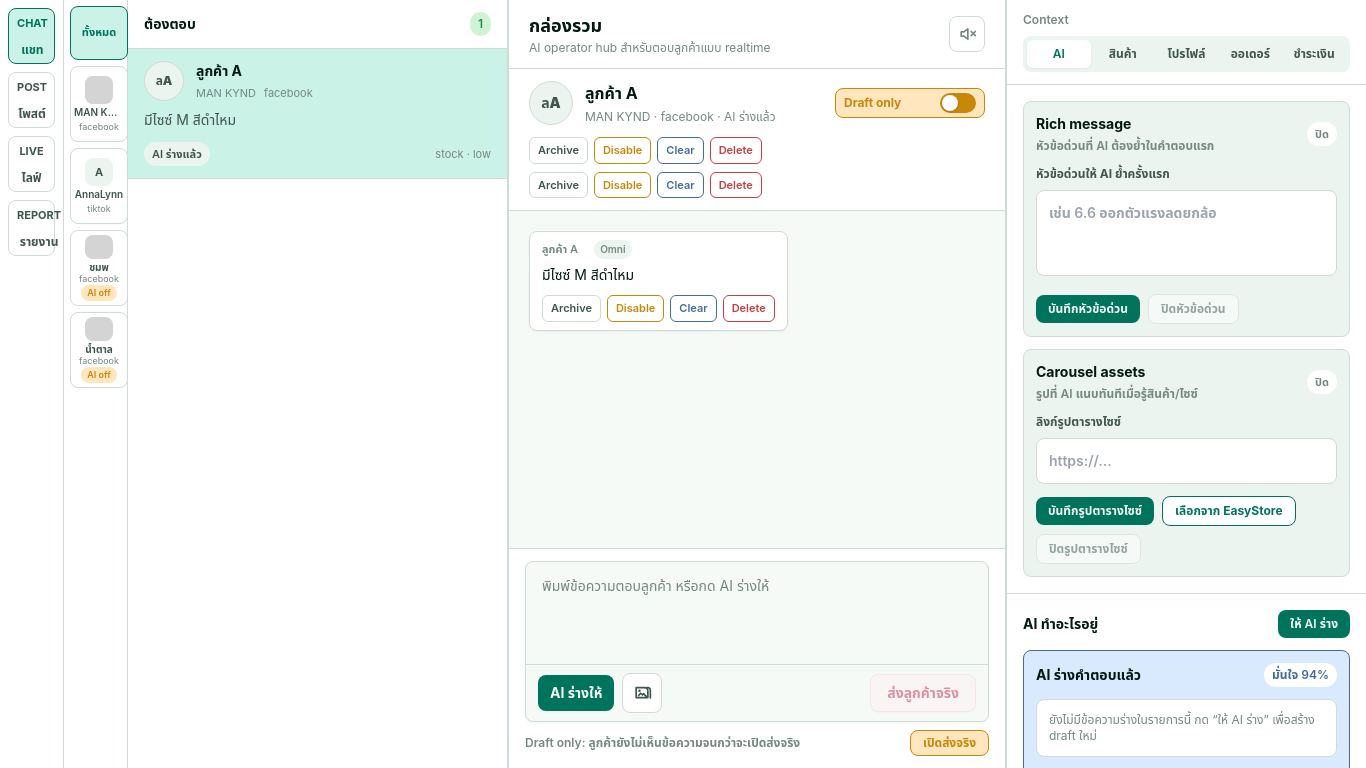
Test: OmniWorkbench › sends a manual reply with one click after customer send is enabled
Click the switch labelled "Draft only" at (910, 103), box [835,88,985,118]
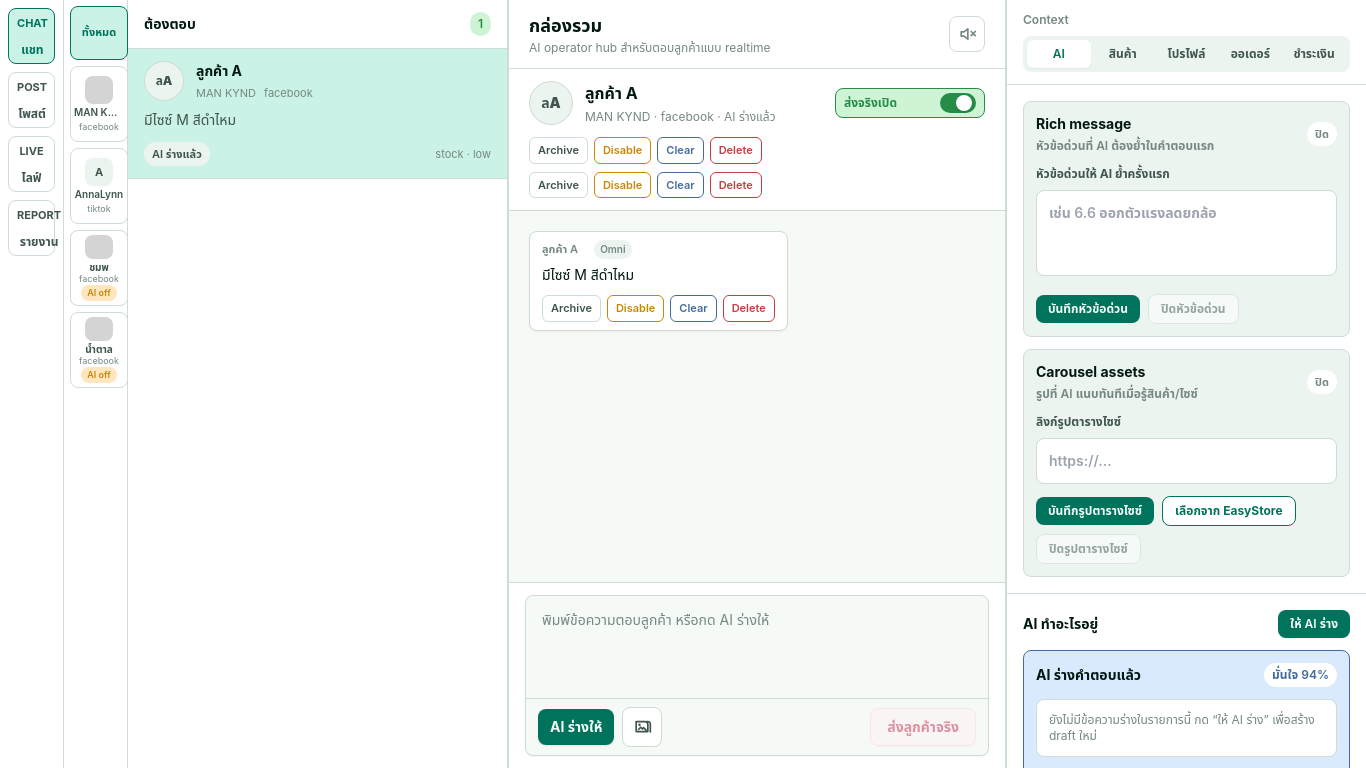
Now the switch labelled "ส่งจริงเปิด" is shown, box [835,88,985,118]
Type "ส่งจริงจากช่องพิมพ์" into the text box with placeholder "พิมพ์ข้อความตอบลูกค้า หรือกด AI ร่างให้" at (757, 644), box [526,596,988,692]
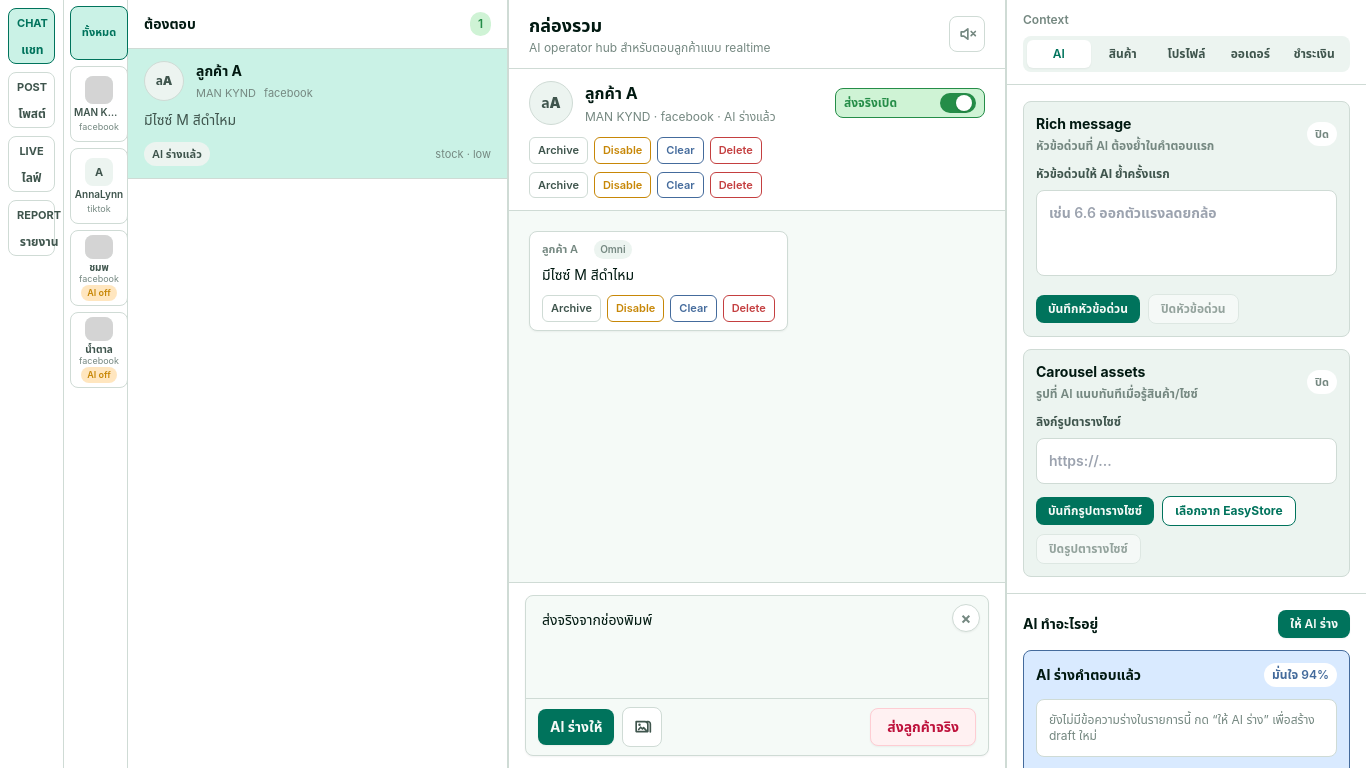
Click the button "ส่งลูกค้าจริง" at (923, 727), box [870,708,976,746]
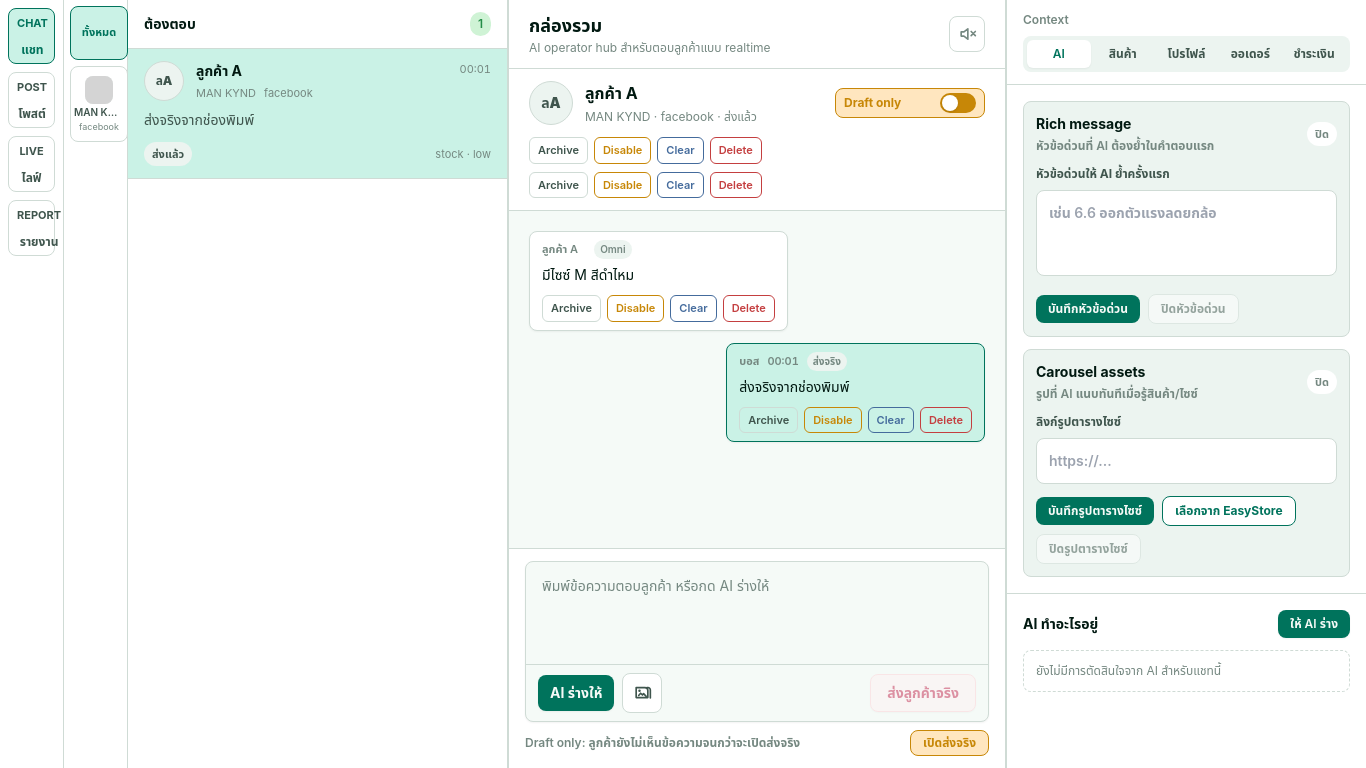
Expected: the text box "ส่งจริงจากช่องพิมพ์" is shown, [526,562,988,658]
Now the text "ส่งจริง" is shown, box [807,352,847,370]
